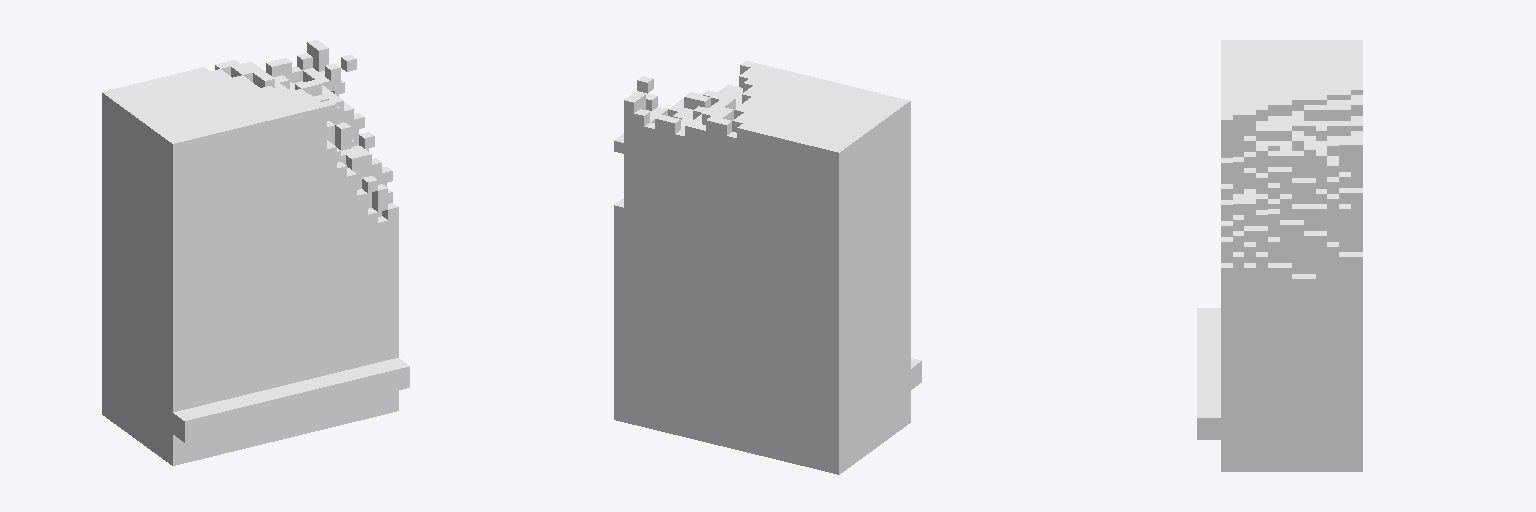
File: enemy_001-5.obj
3 renders of one model, left to right at view 1: azimuth 30°, elevation 25°; view 2: azimuth 150°, elevation 25°; view 3: azimuth 270°, elevation 25°, orthographic.
Visible parts, largest first — view 1: object 1; view 2: object 1; view 3: object 1.
Part boxes in pixels (bbox=[...]): object 1: bbox=[102, 40, 409, 465]; object 1: bbox=[614, 61, 921, 474]; object 1: bbox=[1197, 40, 1362, 471].
Size of the model in its own units: 2.2 by 3 by 1.4.